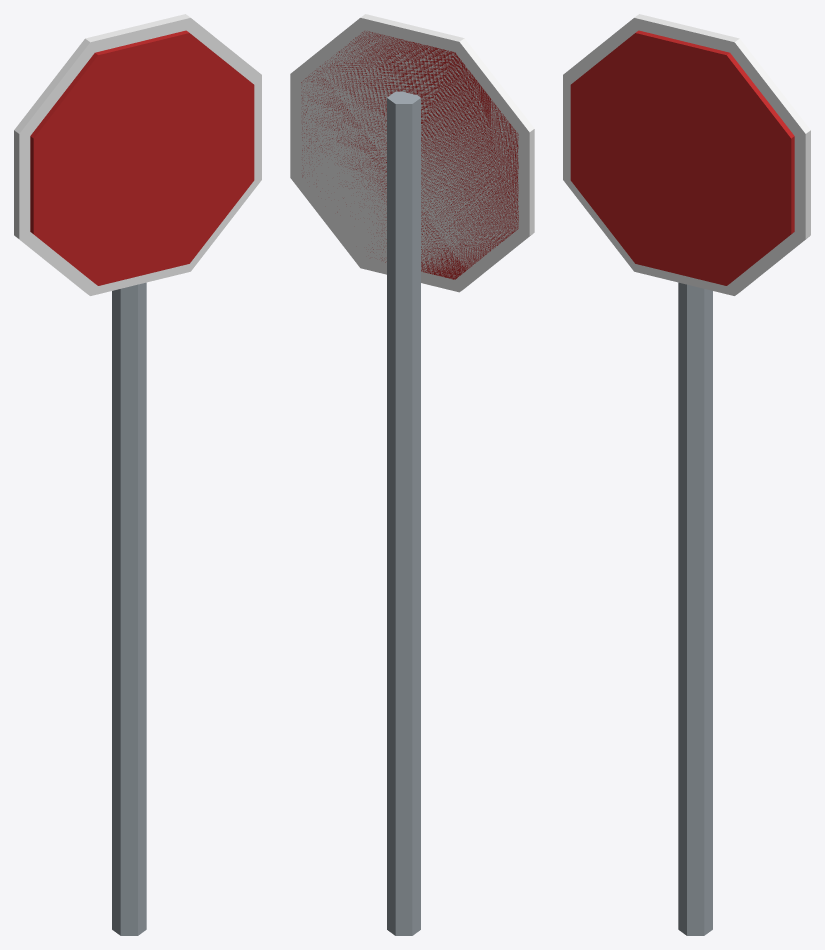
File: exits_stop.glb
3 renders of one model, left to right at view 1: azimuth 30°, elevation 25°; view 2: azimuth 150°, elevation 25°; view 3: azimuth 330°, elevation 25°, orthographic.
Visible parts, largest first — view 1: ExitsStop_body; view 2: ExitsStop_body; view 3: ExitsStop_body.
Part boxes in pixels (left/top/right/bottom): ExitsStop_body: left=14, top=14, right=261, bottom=935; ExitsStop_body: left=290, top=14, right=534, bottom=935; ExitsStop_body: left=563, top=14, right=810, bottom=935.
Size of the model in its own units: 0.813 by 2.91 by 0.135.
